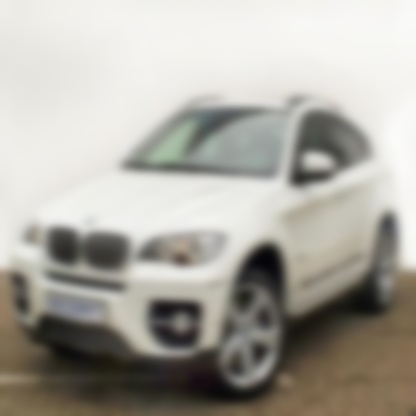Vehicle: (8, 91, 400, 398)
